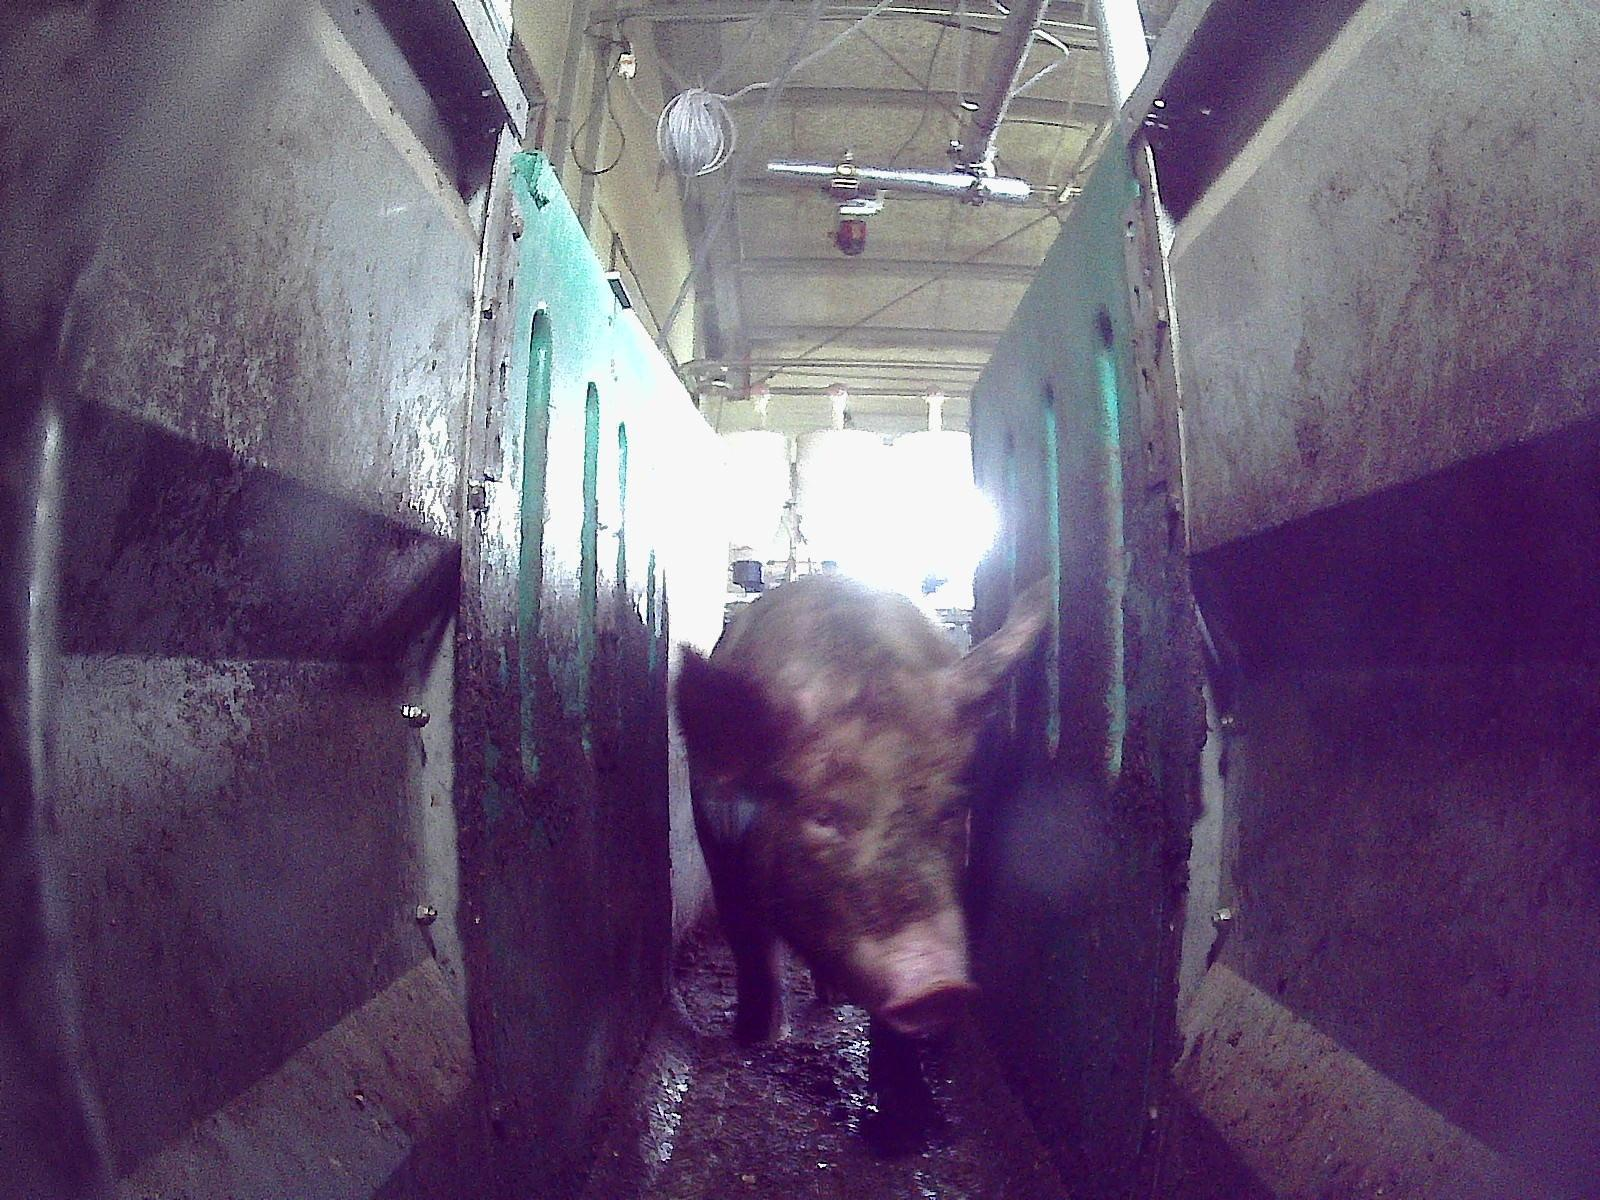Face: (747, 704, 978, 1035)
